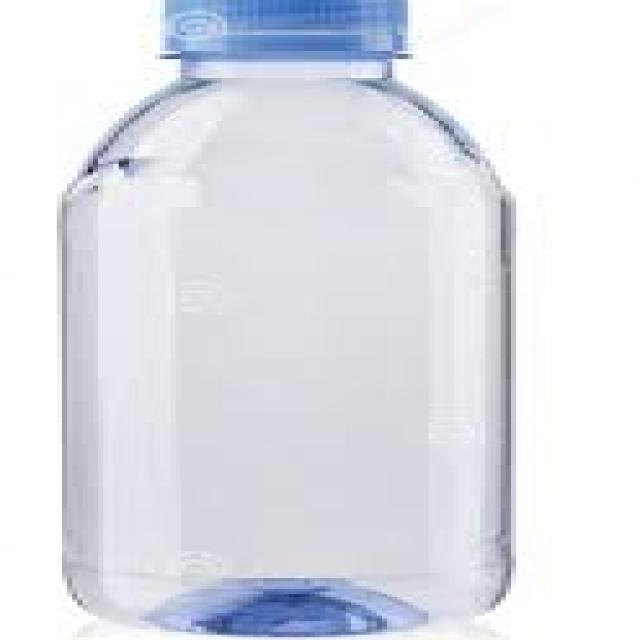organic: (34, 6, 555, 630)
